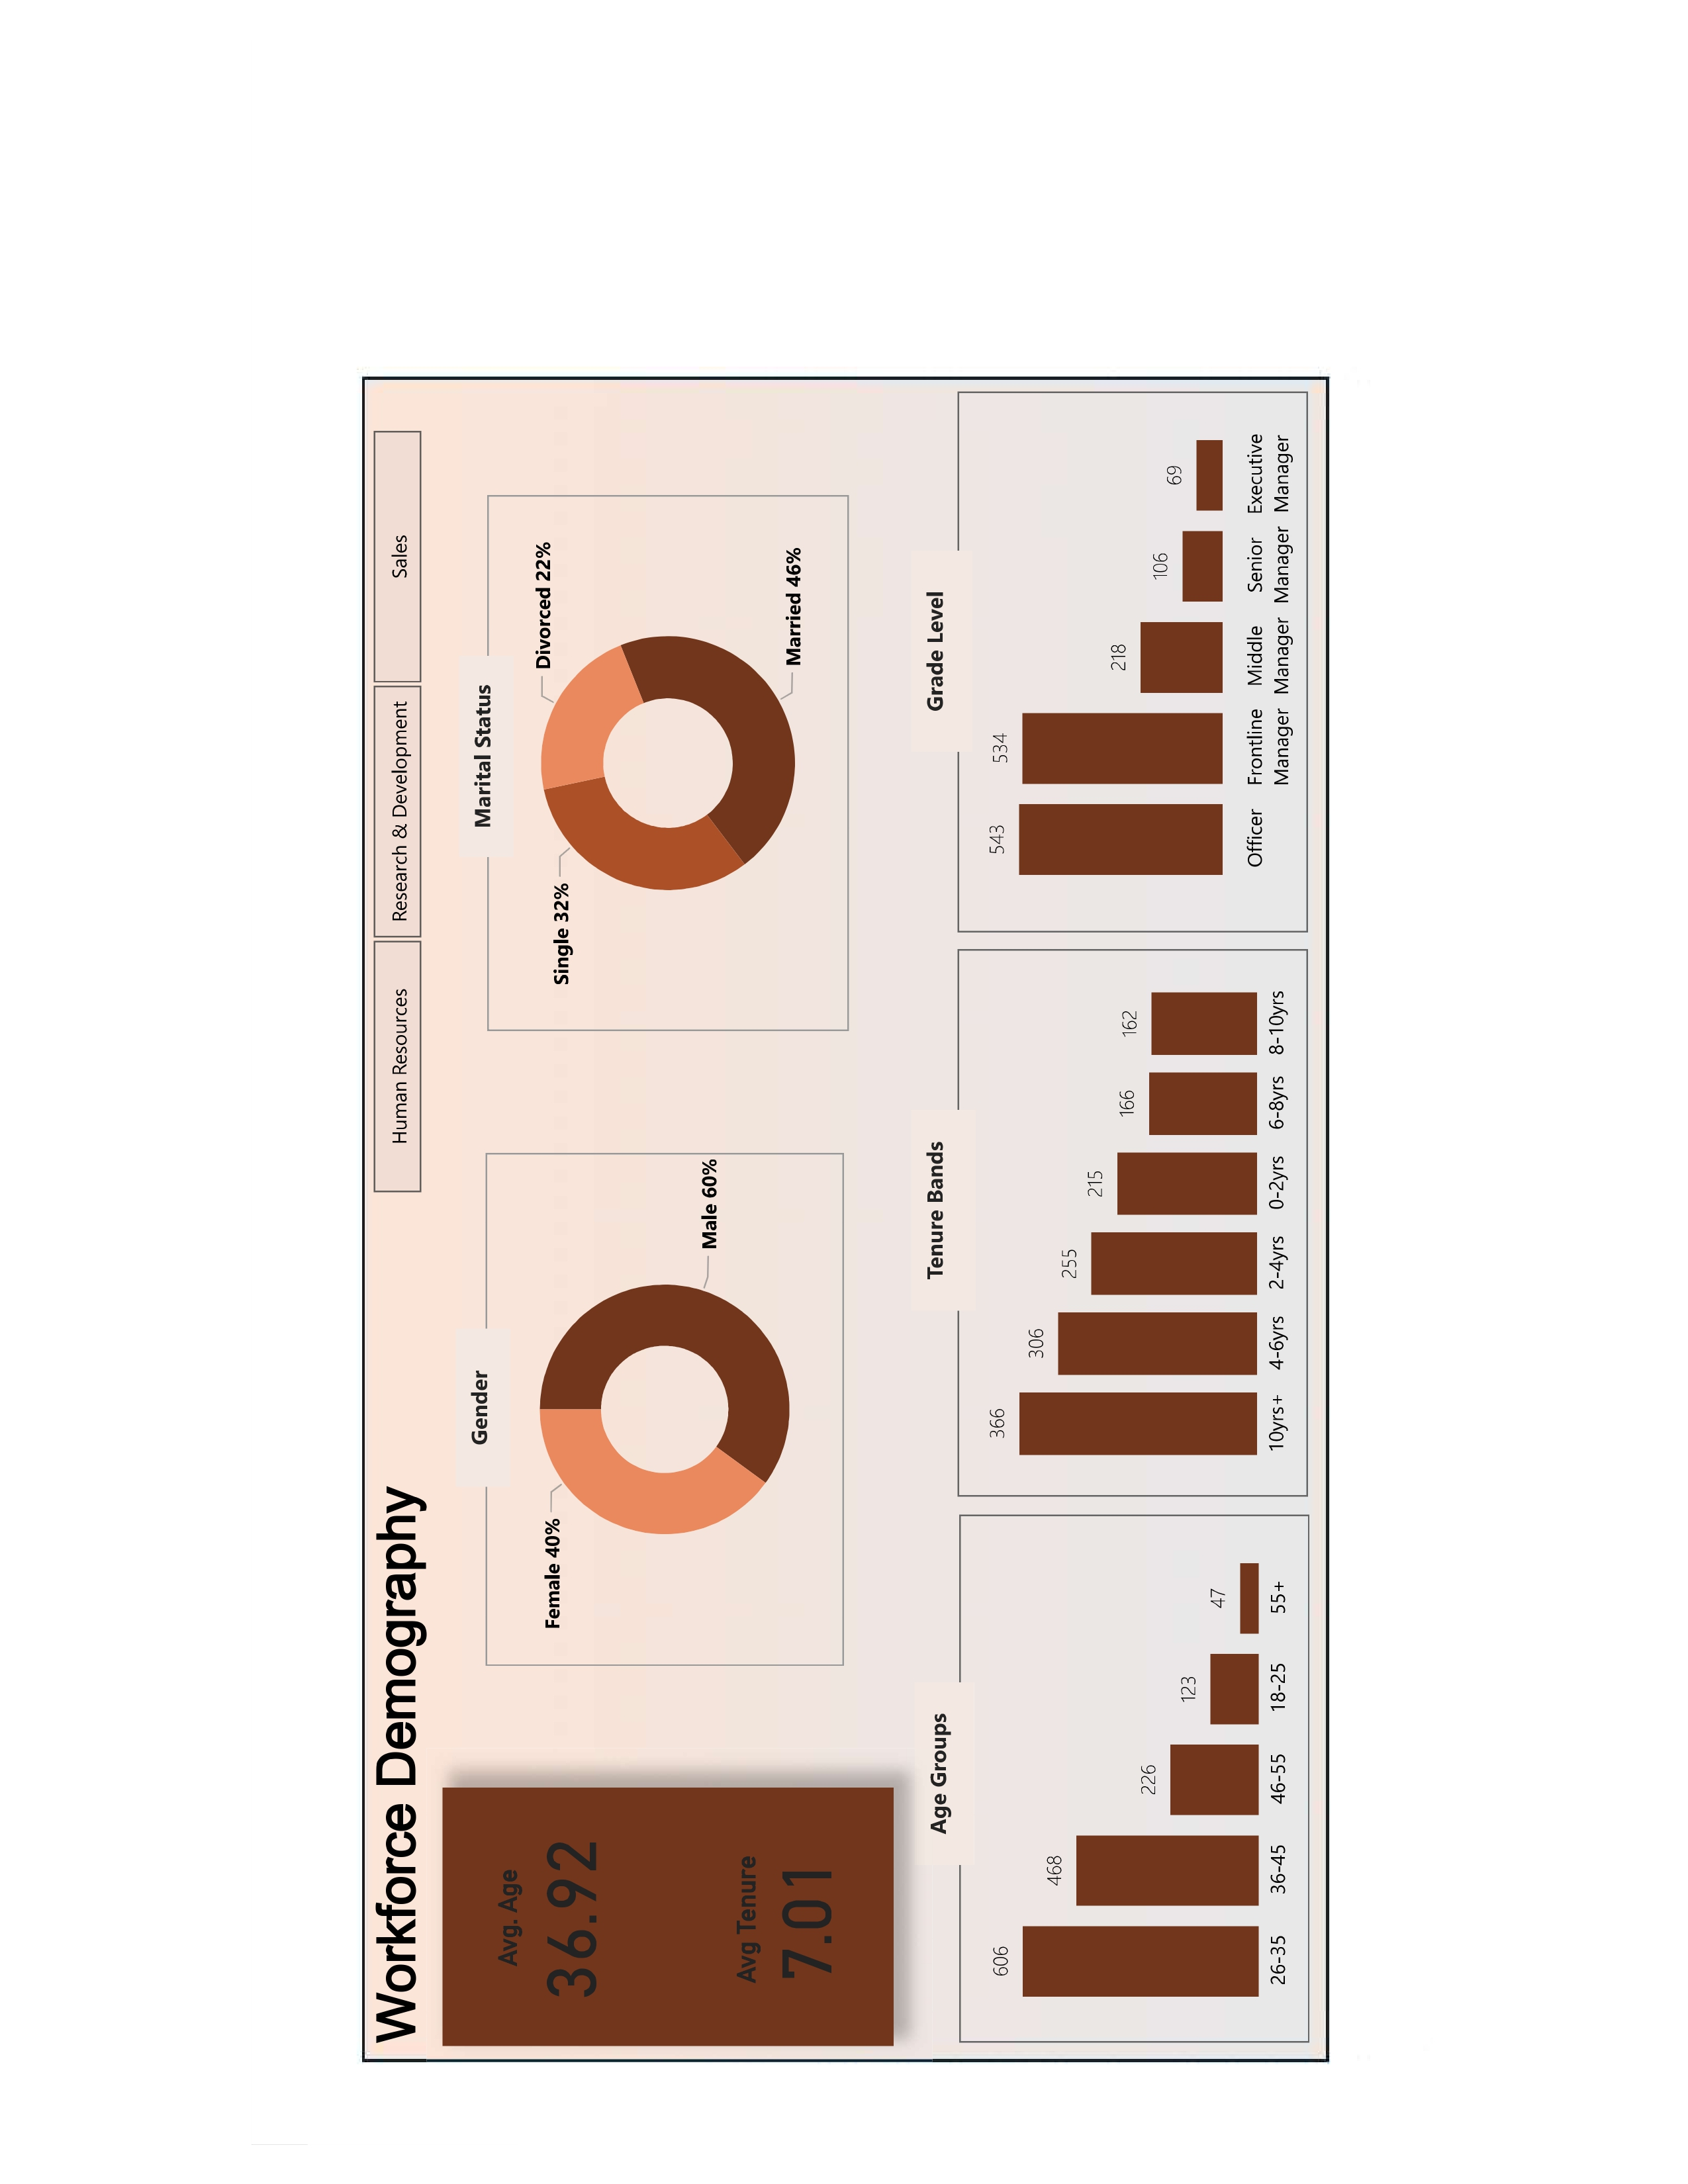

The dashboard page shown, as its layout file describes it:
{"tool":"powerbi","page":{"name":"Page 2","canvas":[1280,720],"ordinal":1},"visuals":[{"type":"slicer","title":"Average Tenure","fields":{"Values":["HR_Analytics.Department"]},"box":[553.4,67.1,512.6,42.8],"z":0},{"type":"donutChart","title":"Attrition by Gender","fields":{"Category":["HR_Analytics.Gender"],"Y":["Sum(HR_Analytics.EmployeeCount)"]},"box":[290.8,141,312.2,218.8],"z":0,"group":"g4"},{"type":"columnChart","title":"Total Employees","fields":{"Category":["HR_Analytics.Tenure Group"],"Y":["Sum(HR_Analytics.EmployeeCount)"]},"box":[393.7,429.2,332.6,213],"z":0,"group":"g1"},{"type":"columnChart","title":"Total Employees","fields":{"Category":["HR_Analytics.Job Level Grade"],"Y":["Sum(HR_Analytics.EmployeeCount)"]},"box":[737,429.2,328.8,213],"z":0,"group":"g2"},{"type":"columnChart","title":"Total Employees","fields":{"Category":["HR_Analytics.AgeGroup"],"Y":["Sum(HR_Analytics.EmployeeCount)"]},"box":[62,429.3,321,213],"z":0,"group":"g3"},{"type":"textbox","box":[57.4,60.3,351.1,55.4],"z":1000},{"type":"donutChart","title":"Attrition by Marital Status","fields":{"Category":["HR_Analytics.MaritalStatus"],"Y":["Sum(HR_Analytics.EmployeeCount)"]},"box":[677,143.2,325.8,219.8],"z":1000,"group":"g5"},{"type":"group","id":"g1","title":"Group 1","box":[393.7,401,332.6,241.2],"z":2000},{"type":"group","id":"g2","title":"Group 1","box":[737,401,328.8,241.2],"z":3000},{"type":"group","id":"g3","title":"Group 2","box":[62,402.7,321,239.6],"z":4000},{"type":"group","id":"g4","title":"Group 3","box":[290.8,123.5,312.2,236.4],"z":5000},{"type":"group","id":"g5","title":"Group 4","box":[677,126.4,325.8,236.4],"z":6000},{"type":"group","id":"g6","title":"Group 8","box":[60.3,115.7,156.6,274.3],"z":7000},{"type":"group","id":"g7","title":"Group 1","box":[399.7,123.5,96.3,33.1],"z":7000,"group":"g4"},{"type":"textbox","box":[399.7,123.5,96.3,33.1],"z":8000,"group":"g7"},{"type":"textbox","box":[782.8,126.4,122.6,33.1],"z":8000,"group":"g5"},{"type":"textbox","box":[506.5,401,122.6,38.9],"z":8000,"group":"g1"},{"type":"textbox","box":[846.9,401,122.6,37],"z":8000,"group":"g2"},{"type":"textbox","box":[170.2,402.7,110.9,36],"z":8000,"group":"g3"},{"type":"textbox","box":[60.3,115.7,156.6,274.3],"z":9000,"group":"g6"},{"type":"card","title":"Avg. Age","fields":{"Values":["Avg(HR_Analytics.Age)"]},"box":[62,140,150,82],"z":10000,"group":"g6"},{"type":"card","title":"Avg Tenure","fields":{"Values":["Avg(HR_Analytics.YearsAtCompany)"]},"box":[62,285,148,78],"z":11000,"group":"g6"}]}

Visuals, with their boxes on the page's 1280x720 design canvas (x1, y1, x2, y2). These are canvas units, not pixel positions in the 1688x2184 screenshot, which may show the page scaled, cropped or inside an application window:
"Average Tenure" slicer: BBox(553, 67, 1066, 110)
"Attrition by Gender" donutChart: BBox(291, 141, 603, 360)
"Total Employees" columnChart: BBox(394, 429, 726, 642)
"Total Employees" columnChart: BBox(737, 429, 1066, 642)
"Total Employees" columnChart: BBox(62, 429, 383, 642)
textbox: BBox(57, 60, 408, 116)
"Attrition by Marital Status" donutChart: BBox(677, 143, 1003, 363)
"Group 1" group: BBox(394, 401, 726, 642)
"Group 1" group: BBox(737, 401, 1066, 642)
"Group 2" group: BBox(62, 403, 383, 642)
"Group 3" group: BBox(291, 124, 603, 360)
"Group 4" group: BBox(677, 126, 1003, 363)
"Group 8" group: BBox(60, 116, 217, 390)
"Group 1" group: BBox(400, 124, 496, 157)
textbox: BBox(400, 124, 496, 157)
textbox: BBox(783, 126, 905, 160)
textbox: BBox(506, 401, 629, 440)
textbox: BBox(847, 401, 970, 438)
textbox: BBox(170, 403, 281, 439)
textbox: BBox(60, 116, 217, 390)
"Avg. Age" card: BBox(62, 140, 212, 222)
"Avg Tenure" card: BBox(62, 285, 210, 363)
